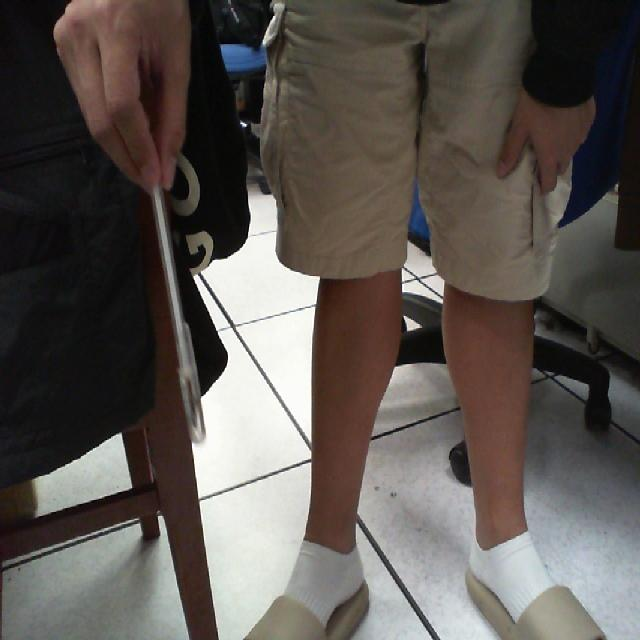Pen: (139, 141, 218, 464)
